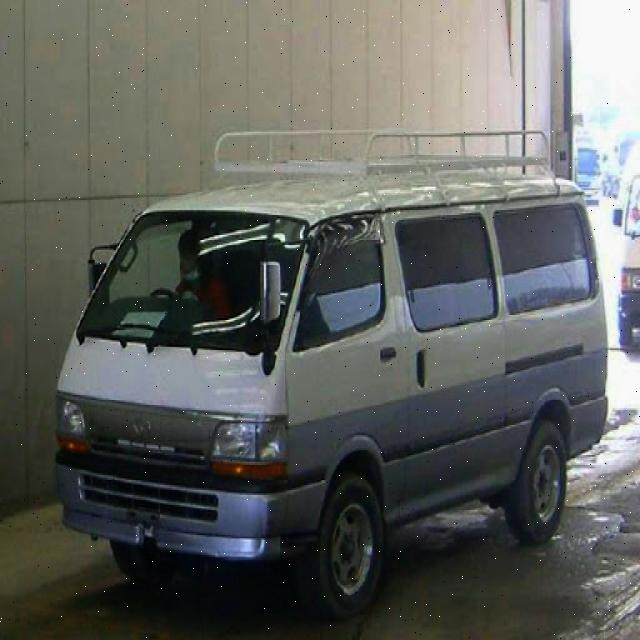Van: (55, 143, 615, 592)
